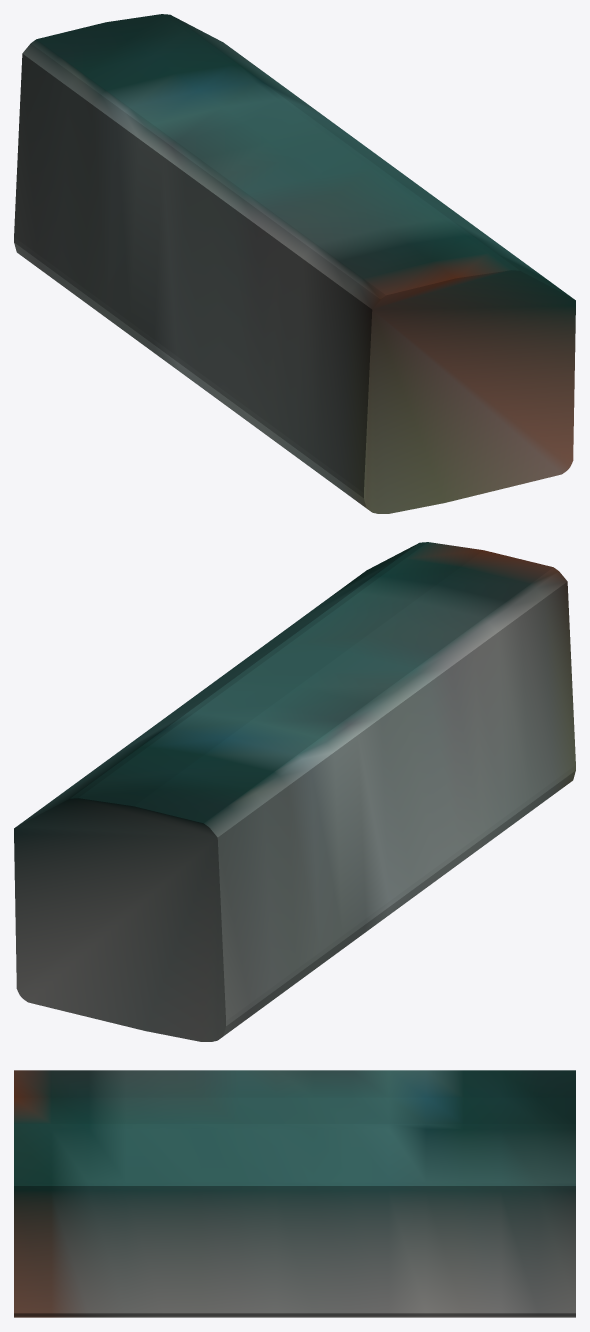
The picture shows the model from 3 angles, top to bottom: view 1: azimuth 30°, elevation 25°; view 2: azimuth 150°, elevation 25°; view 3: azimuth 270°, elevation 25°; orthographic projection. The views are drawn at different scales.
Parts seen in each view (by area): view 1: visual_mesh.obj; view 2: visual_mesh.obj; view 3: visual_mesh.obj.
Boxes of the visible parts, x1,y1,x2,y2 form: visual_mesh.obj: (14,14,575,513); visual_mesh.obj: (14,542,575,1041); visual_mesh.obj: (14,1070,575,1317).
Size of the model in its own units: 0.07 by 0.07 by 0.2.
